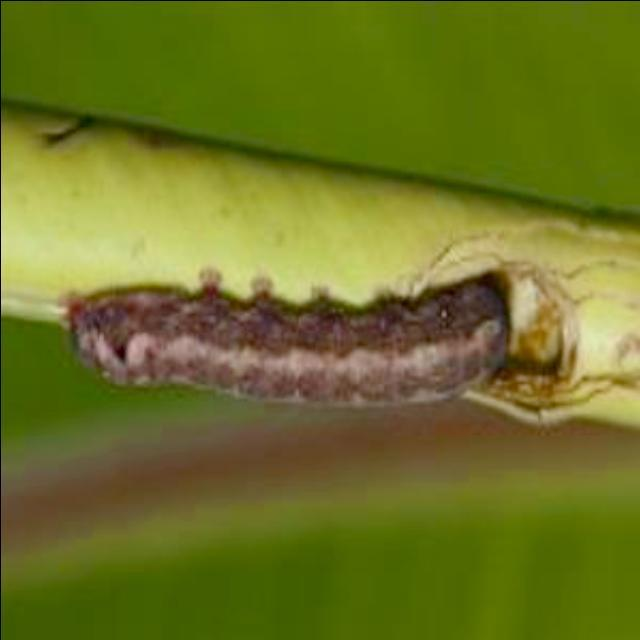Tobacco cutworm: (18, 165, 604, 481)
